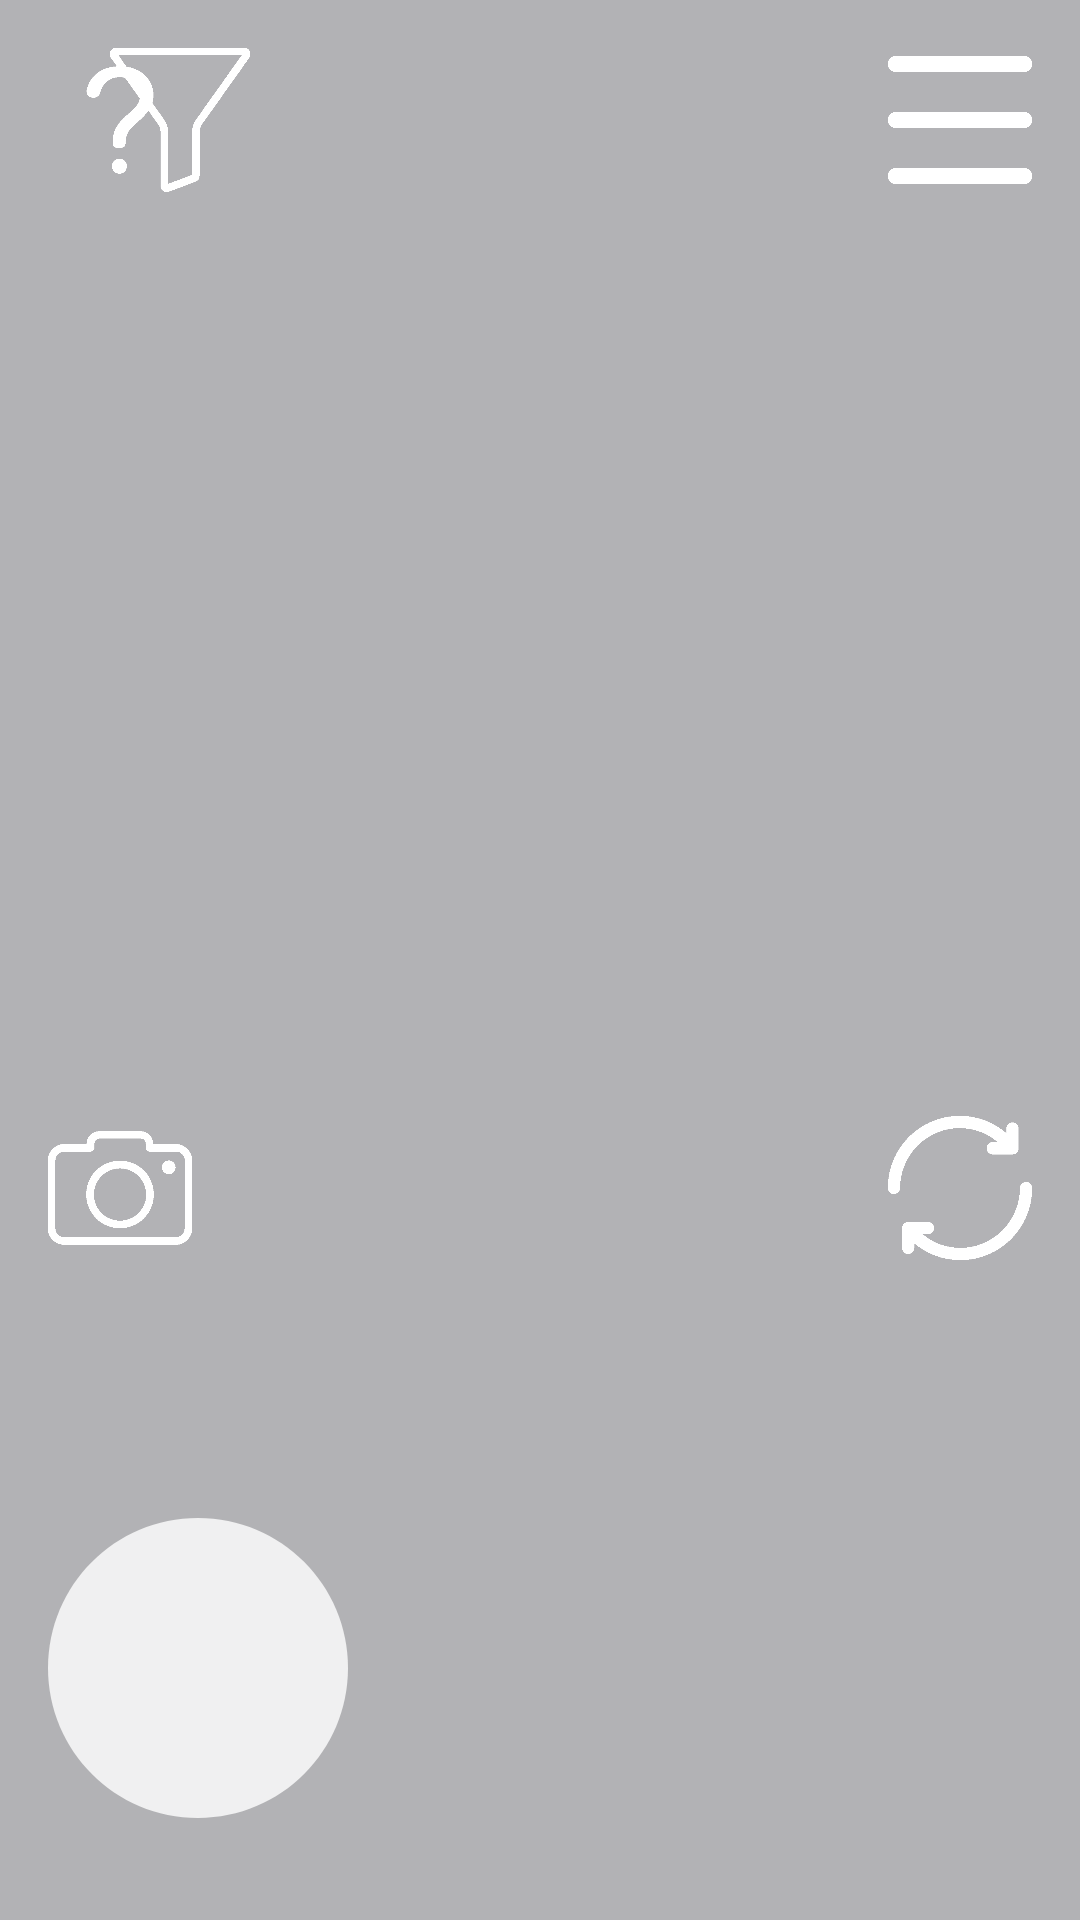

Icon click points for this 1080x1920 phone screenshot, format point (x, y):
camara: point (120, 1188)
menu: point (960, 120)
